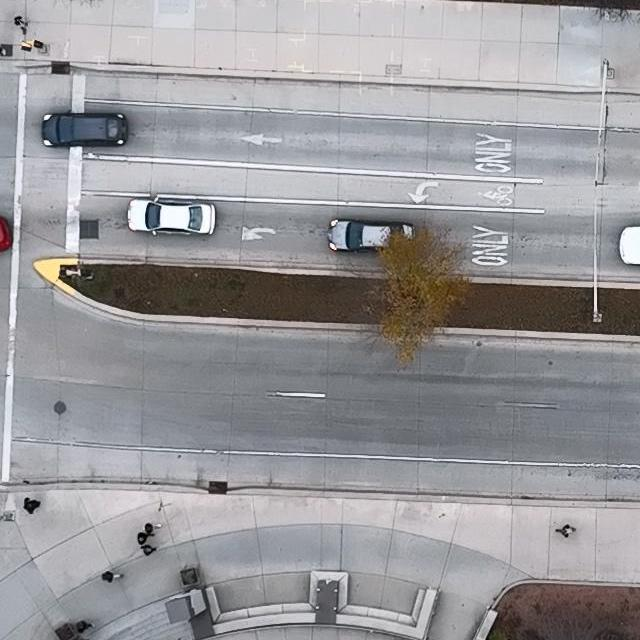car: (126, 197, 215, 238), (42, 110, 128, 147), (327, 217, 415, 252), (619, 225, 640, 266)
